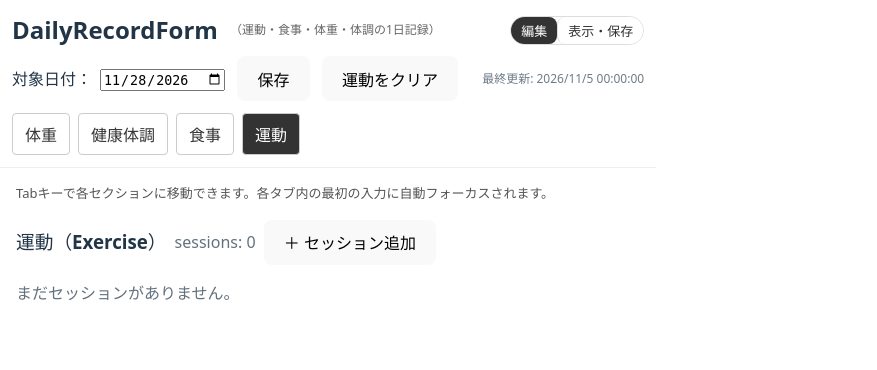
DailyRecordForm and WeightEditor integration › does not overwrite a new draft started during an in-flight save when the older save response resolves
The image size is (877, 370).
expect the button "保存" is enabled: met, box left=237, top=56, right=310, bottom=101
Click the tab "体重". click: (41,134)
box: left=12, top=113, right=70, bottom=155
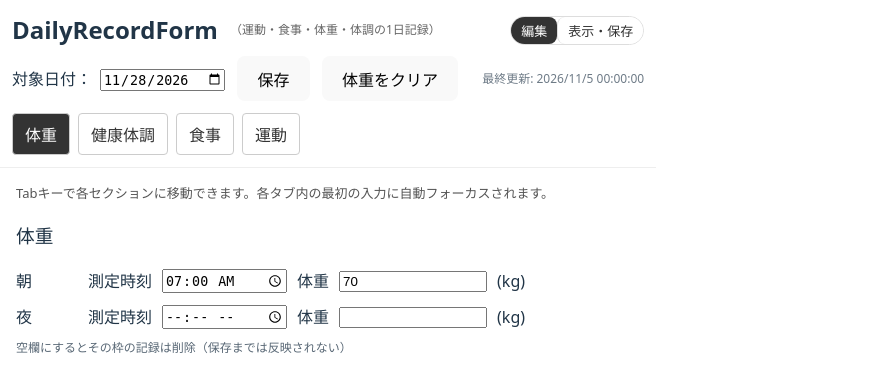
expect the 1st field holds "70": met, box left=339, top=271, right=487, bottom=292
// Start save.
Click the button "保存". click: (274,79)
box: left=237, top=56, right=310, bottom=101
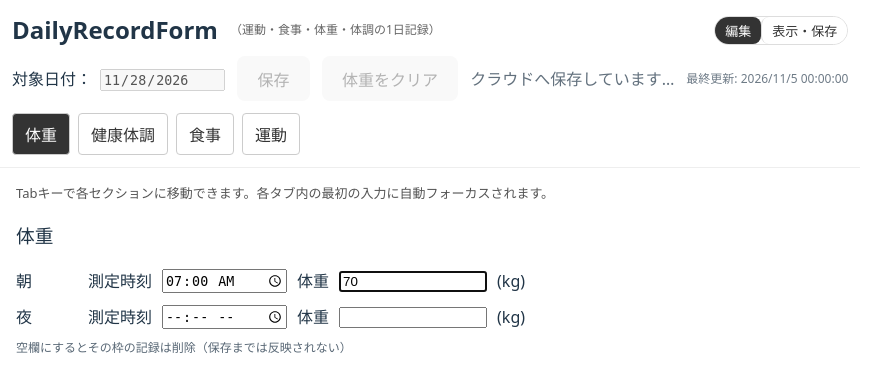
expect the text "クラウドへ保存しています…" is shown: met, box left=470, top=67, right=674, bottom=91
// While save is in flight, start typing a new uncommitted draft.
Replace the text in the 1st field with "71.8". click: (413,281)
box: left=339, top=271, right=487, bottom=292
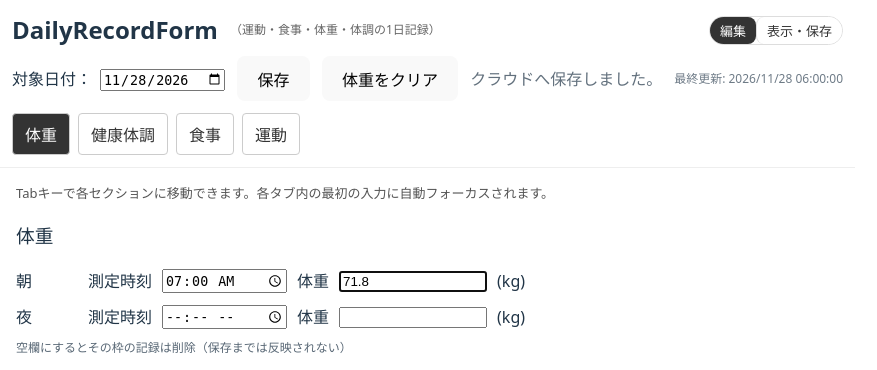
expect the text "クラウドへ保存しました。" is shown: met, box left=470, top=67, right=662, bottom=91
